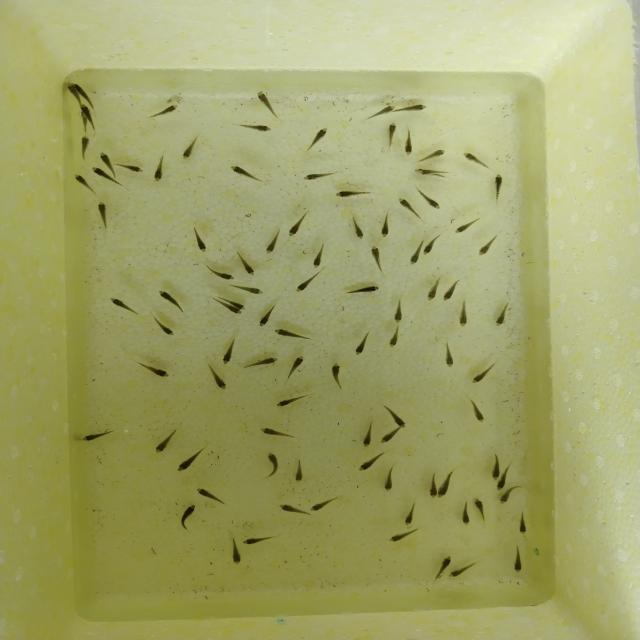fingerling: (174, 445, 210, 474), (106, 294, 142, 320), (474, 230, 504, 260), (155, 286, 185, 316), (152, 424, 182, 454), (224, 161, 264, 183), (305, 125, 332, 157), (268, 326, 316, 344), (254, 89, 282, 119), (176, 132, 203, 163), (461, 148, 495, 172), (352, 327, 378, 358), (242, 352, 280, 373), (146, 100, 182, 122), (205, 364, 229, 397), (174, 501, 198, 534), (257, 424, 301, 442), (357, 102, 398, 121), (132, 359, 172, 378), (486, 171, 509, 204), (416, 185, 444, 212), (286, 209, 312, 238), (293, 269, 323, 294), (470, 361, 500, 386), (261, 450, 285, 481), (284, 353, 308, 384), (79, 426, 118, 445), (92, 199, 115, 230), (194, 486, 231, 505), (236, 251, 263, 277), (273, 391, 312, 409), (379, 120, 404, 148), (341, 282, 382, 299), (190, 224, 213, 254), (327, 360, 349, 391), (148, 155, 171, 184), (383, 528, 420, 546), (356, 450, 386, 472), (417, 144, 451, 163), (308, 494, 340, 514), (152, 313, 176, 339), (219, 336, 240, 365), (398, 126, 417, 158), (381, 463, 401, 493), (440, 276, 463, 302), (229, 281, 266, 297), (242, 532, 279, 548), (439, 339, 458, 370), (401, 500, 422, 528), (467, 397, 488, 425), (302, 169, 341, 184), (332, 187, 376, 200), (263, 229, 285, 255), (278, 500, 308, 519), (492, 300, 513, 327), (204, 265, 237, 282), (310, 241, 330, 269), (233, 121, 276, 134), (368, 243, 386, 274), (385, 406, 410, 428), (291, 454, 308, 486), (385, 323, 405, 350), (422, 276, 442, 303), (471, 495, 490, 523), (255, 304, 276, 329), (452, 217, 481, 235), (455, 300, 473, 329), (389, 297, 408, 324), (116, 160, 146, 177), (423, 234, 443, 259), (509, 542, 524, 575), (406, 241, 424, 267), (398, 100, 429, 115), (395, 196, 417, 216), (76, 132, 91, 161), (457, 498, 472, 527), (350, 216, 368, 240), (228, 537, 242, 567), (487, 453, 502, 480), (359, 421, 374, 448), (378, 212, 392, 240), (71, 170, 90, 189), (379, 428, 399, 446), (516, 509, 529, 536), (412, 168, 452, 176), (436, 553, 455, 568), (89, 164, 108, 178), (447, 565, 466, 579), (436, 478, 448, 500), (428, 472, 438, 498), (97, 150, 113, 166), (496, 491, 511, 506), (493, 479, 508, 492), (65, 82, 79, 95), (80, 102, 92, 115), (226, 307, 242, 316)
